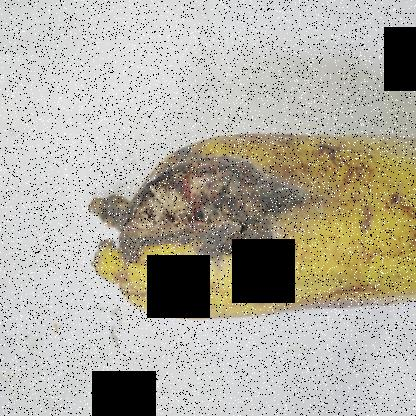ripe: (88, 125, 415, 334)
rotten: (79, 148, 302, 282)
